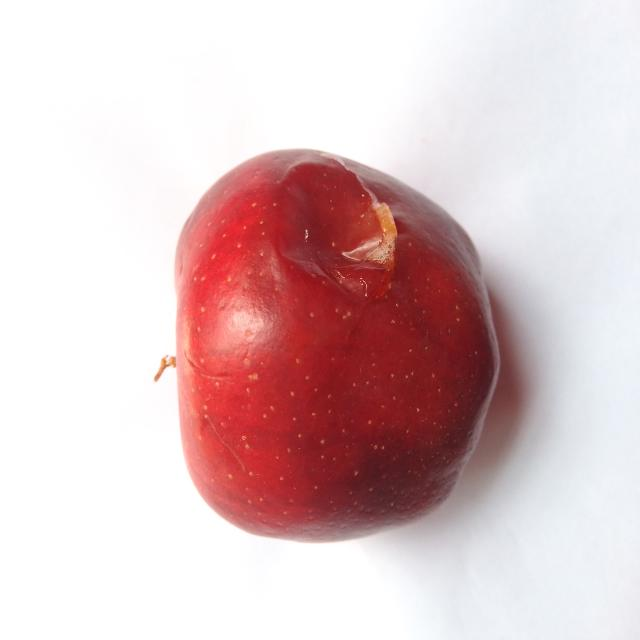apple: (176, 150, 497, 541)
